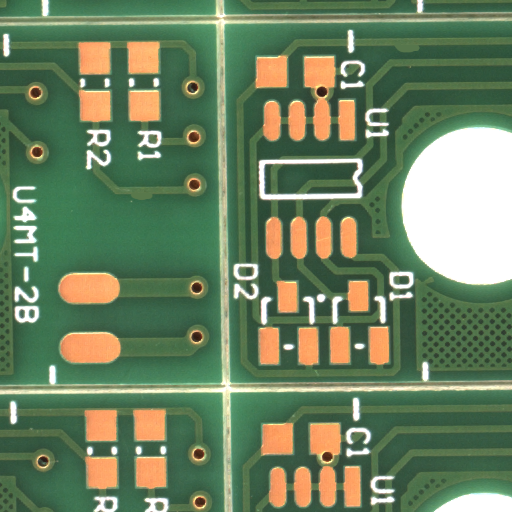Spur: (406, 48, 437, 60), (141, 195, 168, 206)
